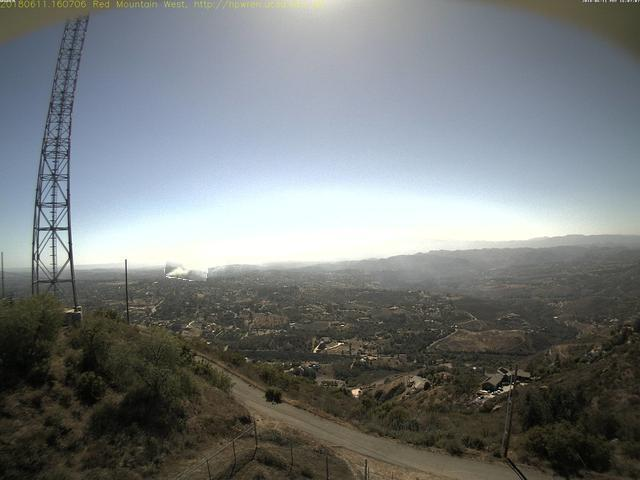smoke: (166, 256, 210, 282)
